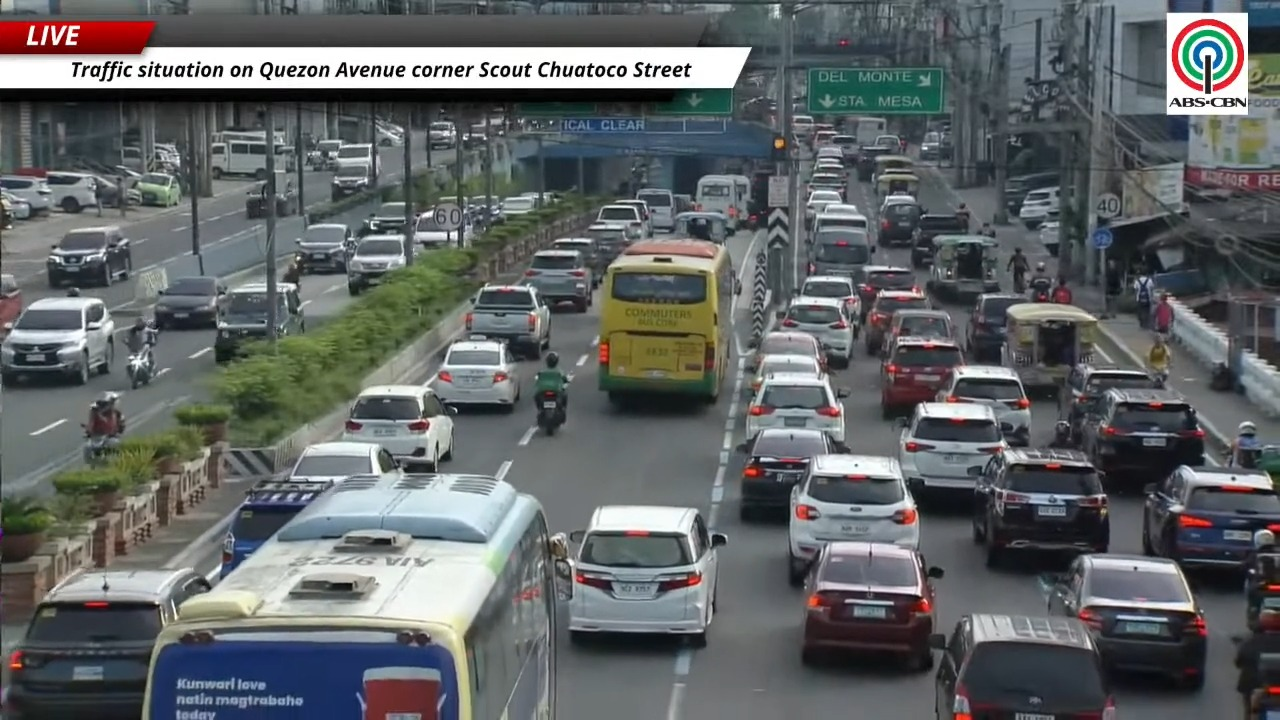bus: (142, 474, 571, 719), (598, 239, 737, 403), (694, 176, 749, 230), (211, 129, 266, 143), (274, 145, 295, 171)
car: (4, 568, 211, 719), (568, 505, 726, 646), (1047, 554, 1207, 689), (930, 613, 1115, 719), (801, 541, 943, 670), (788, 454, 918, 586), (972, 448, 1109, 566), (1142, 466, 1279, 568), (1081, 388, 1204, 486), (219, 479, 334, 577), (737, 428, 845, 521), (897, 402, 1006, 494), (0, 298, 115, 385), (341, 385, 455, 471), (937, 365, 1031, 446), (745, 373, 848, 442), (1062, 364, 1159, 437), (880, 336, 964, 418), (429, 336, 520, 411), (779, 296, 855, 367), (46, 225, 131, 288), (284, 441, 398, 482), (863, 289, 932, 355), (521, 249, 593, 312), (965, 293, 1026, 362), (798, 275, 862, 337), (851, 265, 918, 324), (153, 276, 226, 329), (346, 235, 406, 295), (881, 309, 954, 354), (749, 354, 826, 395), (911, 213, 969, 267), (750, 332, 826, 371), (297, 223, 354, 273), (552, 237, 607, 287), (585, 222, 640, 267), (413, 209, 473, 248), (45, 171, 97, 212), (0, 175, 52, 215), (878, 202, 921, 246), (596, 203, 650, 237), (357, 202, 405, 237), (274, 283, 305, 337), (1019, 187, 1058, 229), (813, 204, 869, 233), (135, 172, 181, 207), (613, 198, 653, 237), (0, 273, 23, 339), (95, 176, 141, 208), (805, 189, 842, 228), (331, 164, 370, 200), (274, 170, 300, 217), (305, 139, 343, 169), (807, 171, 847, 196), (0, 191, 33, 220), (499, 196, 537, 220), (879, 193, 918, 216), (428, 121, 457, 149), (832, 134, 857, 166), (1038, 220, 1059, 257), (919, 131, 940, 160), (824, 199, 861, 215), (815, 145, 842, 164), (814, 158, 846, 174), (807, 190, 841, 204)
motorcycle: (1250, 653, 1279, 719), (535, 392, 565, 436), (83, 431, 118, 466), (537, 392, 565, 435), (126, 352, 152, 388), (281, 253, 302, 284), (1029, 280, 1050, 302), (1152, 369, 1168, 388), (1013, 271, 1025, 294)
truck: (464, 284, 550, 359)
